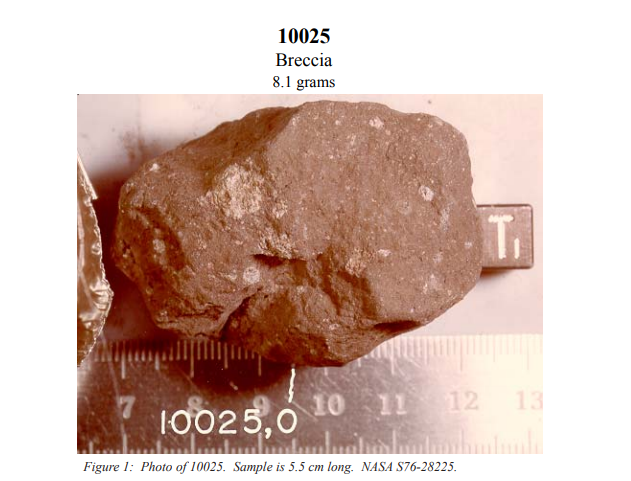Breccia: (108, 103, 487, 360)
